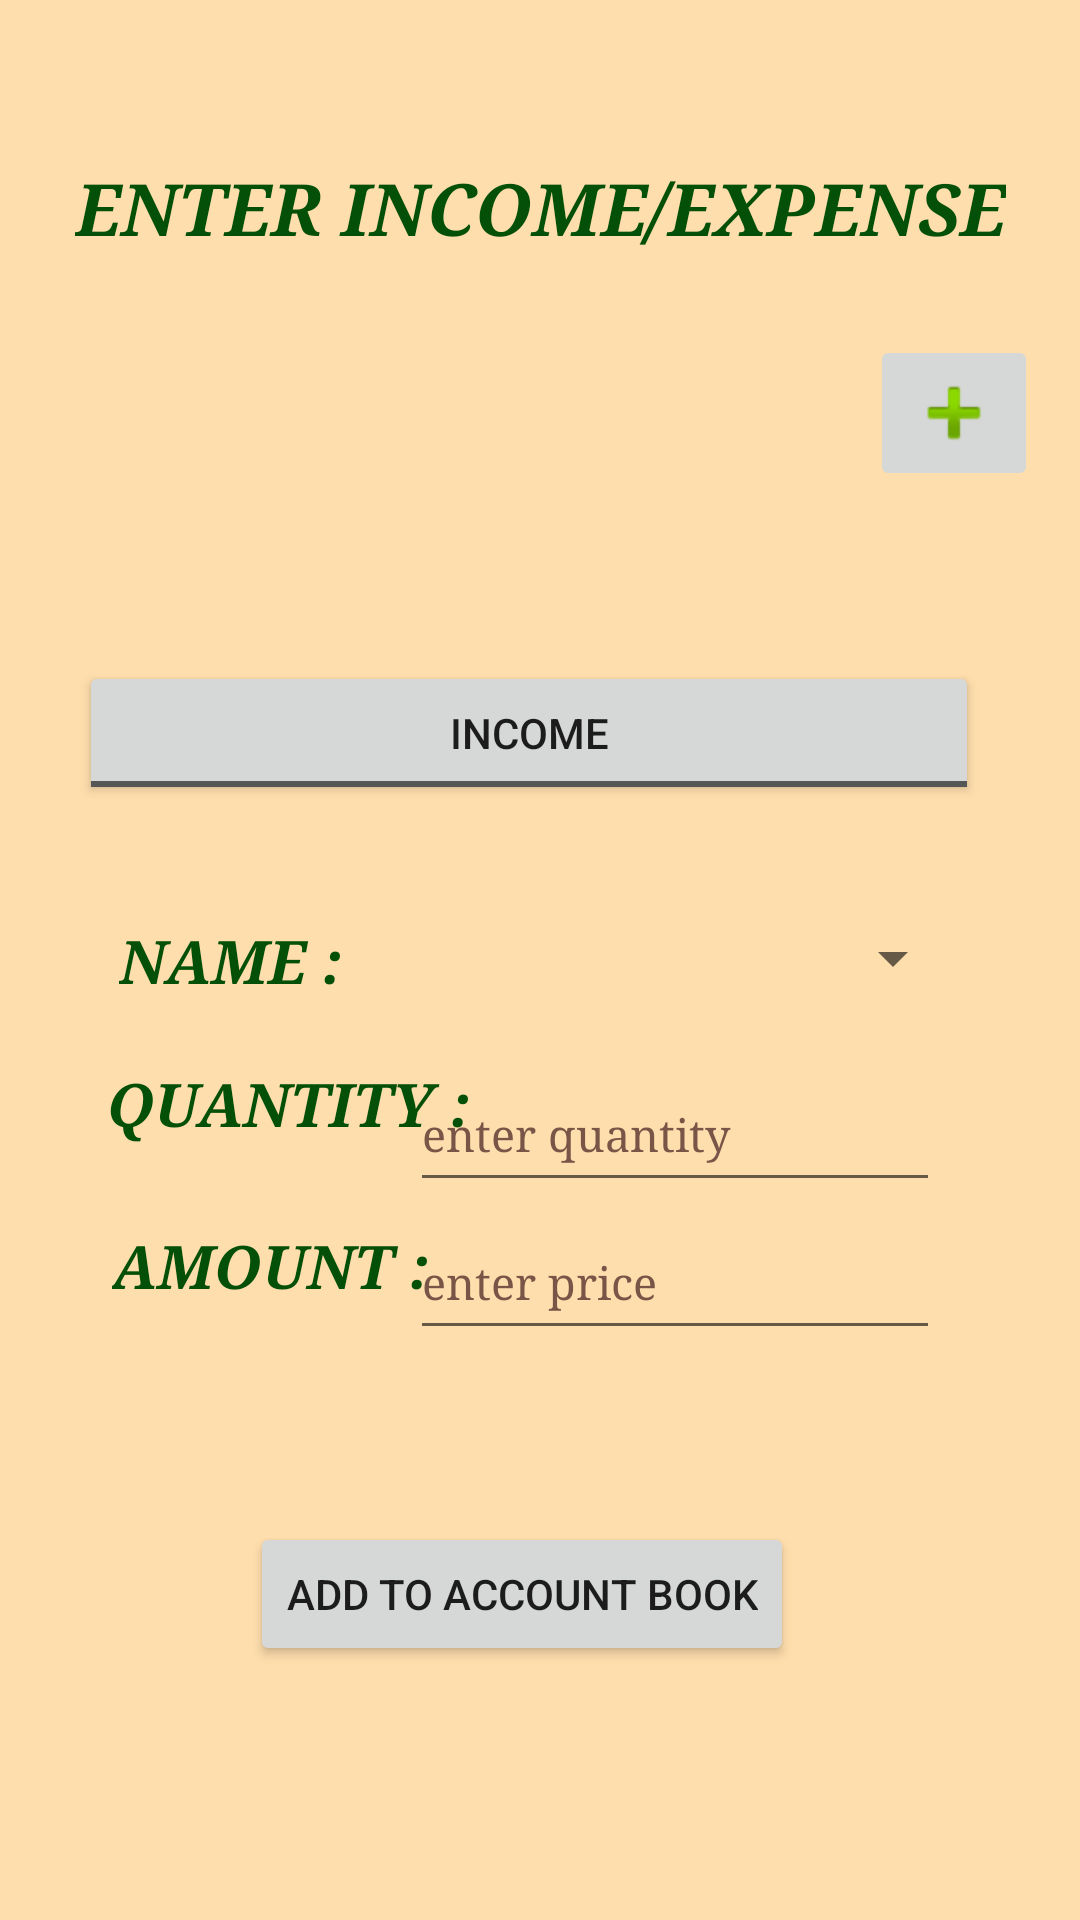

Icons on this 1080px x 1920px Android screen, each with the point to tap as (x,y):
ADD ITEM: (954,413)
